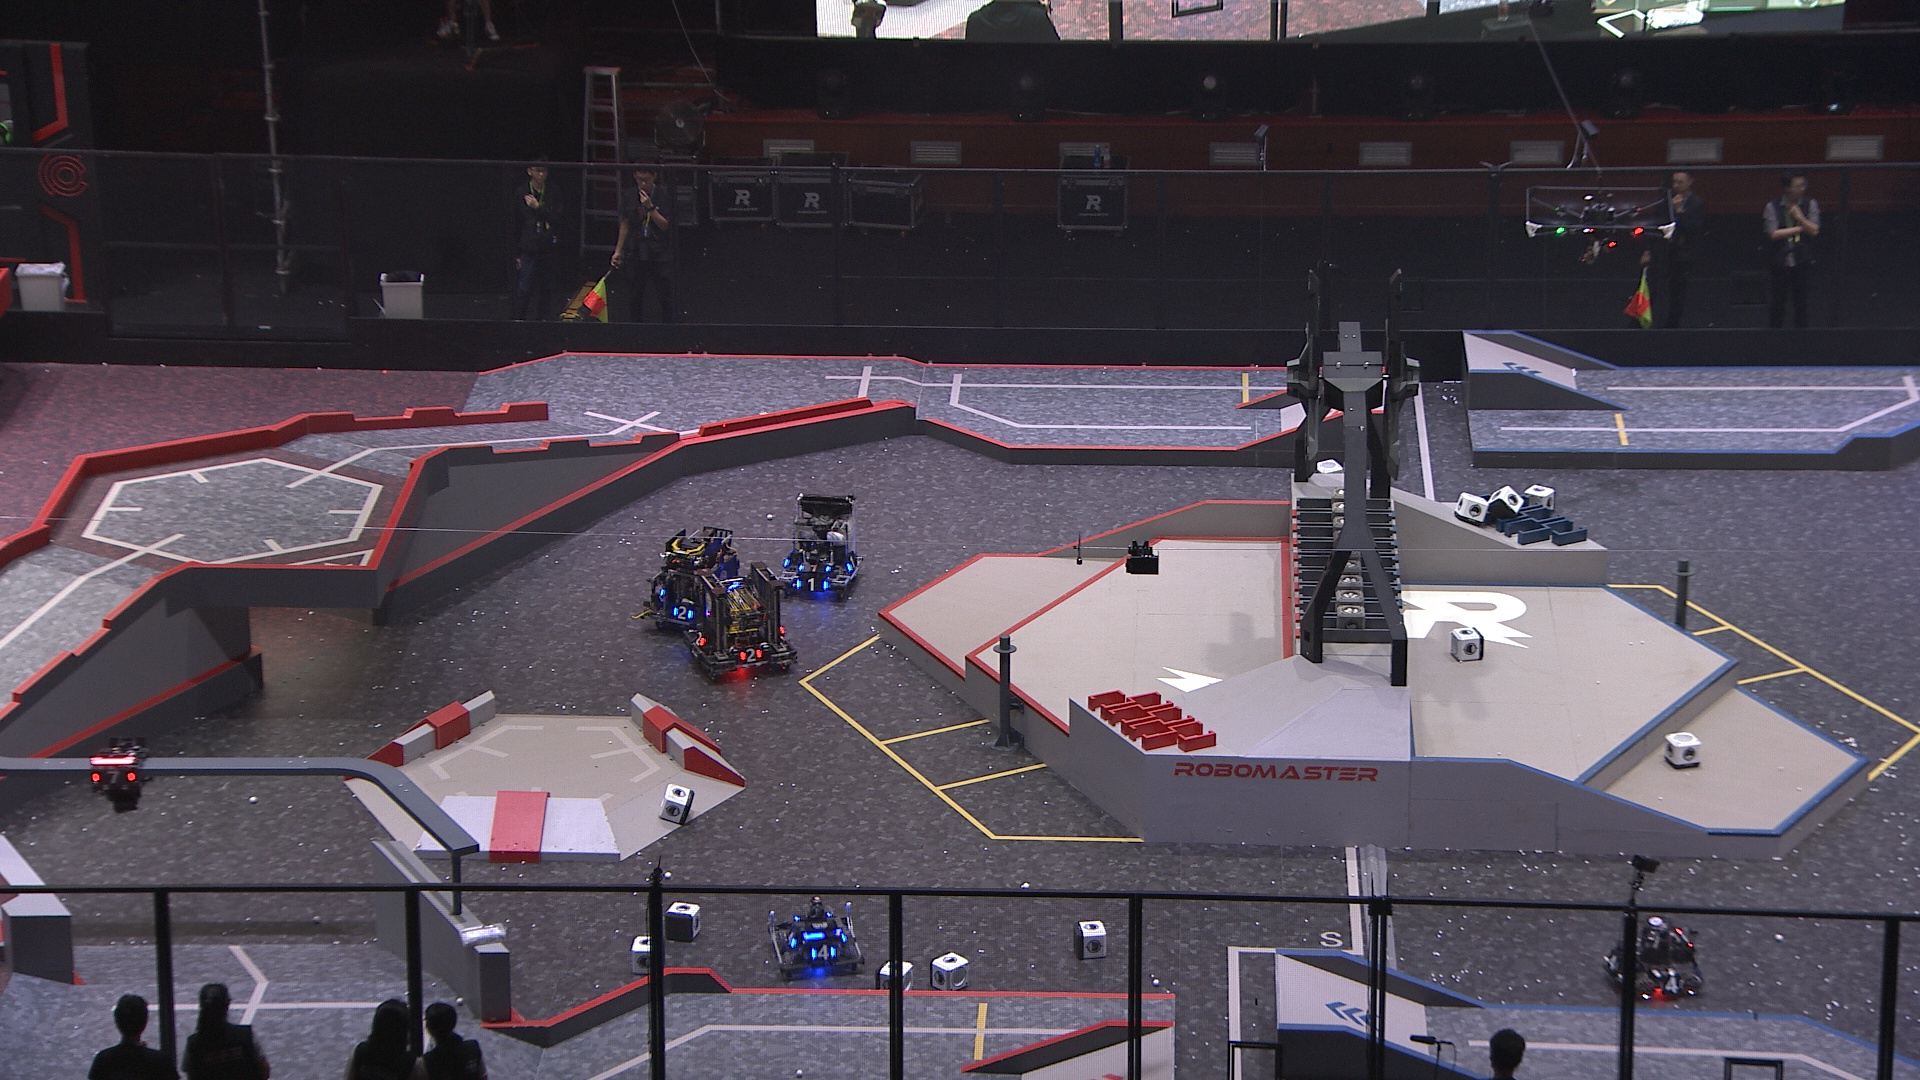armor: (91, 765, 136, 785), (1656, 973, 1687, 997), (793, 575, 831, 593), (808, 942, 839, 963), (795, 560, 833, 576), (1604, 948, 1622, 975), (738, 646, 764, 665), (671, 604, 695, 622), (783, 924, 799, 949), (692, 626, 708, 647), (844, 551, 860, 571)
car: (680, 566, 795, 676), (644, 520, 741, 629), (775, 491, 869, 603), (1604, 913, 1704, 1007), (766, 893, 872, 977)
watcher: (86, 732, 157, 811)
